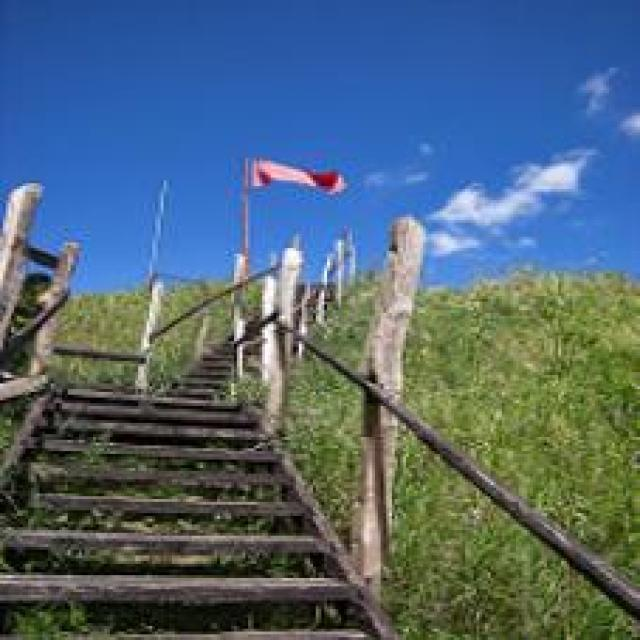upstair: (32, 351, 328, 610)
